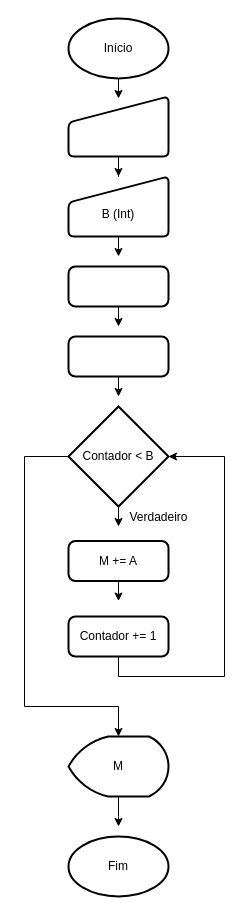
The diagram is 250 pixels wide and 914 high, and some of its shapes have lost their labels. Here are the shapes that lost their labels. From the top down, the centre of each, then its label:
At point (118, 126): "A (Int)".
At point (118, 286): "M = 0".
At point (118, 356): "Contador = 0".
